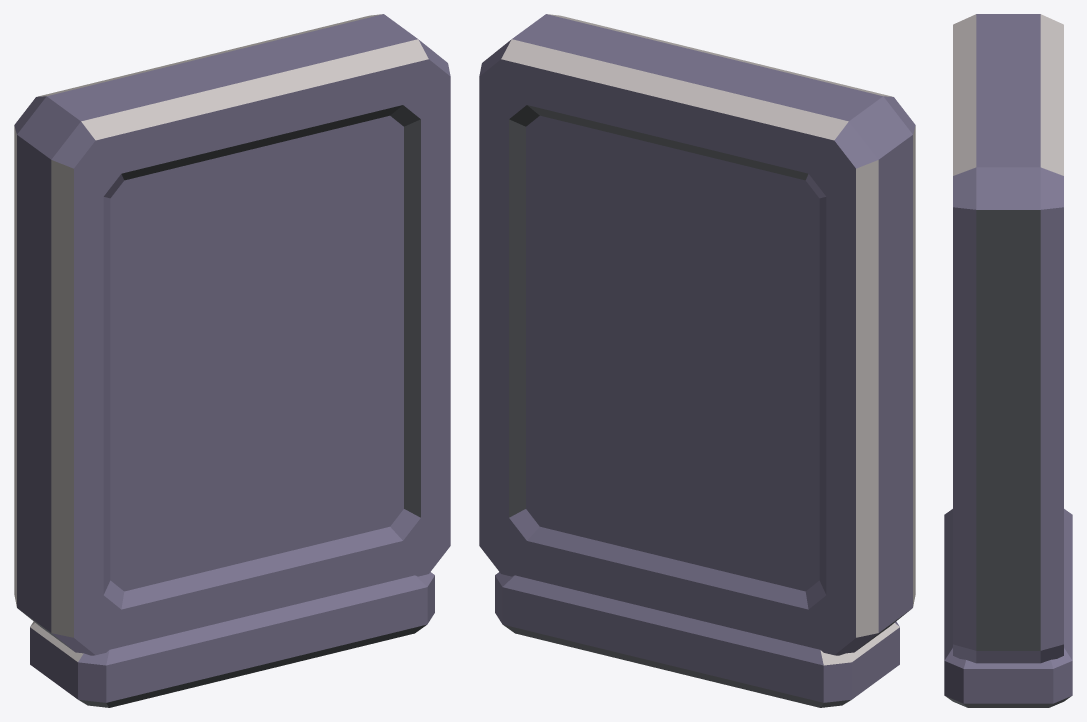
File: stele.glb
3 renders of one model, left to right at view 1: azimuth 30°, elevation 25°; view 2: azimuth 150°, elevation 25°; view 3: azimuth 270°, elevation 25°, orthographic. The views are drawn at different scales.
Parts seen in each view (by area): view 1: stele; view 2: stele; view 3: stele.
Part boxes in pixels (box(x1,y1,x2,y2)): stele: box(14, 14, 450, 707); stele: box(479, 14, 915, 707); stele: box(944, 14, 1072, 707).
Size of the model in its own units: 1 by 1.4 by 0.3.
1 material, 1 textured.
